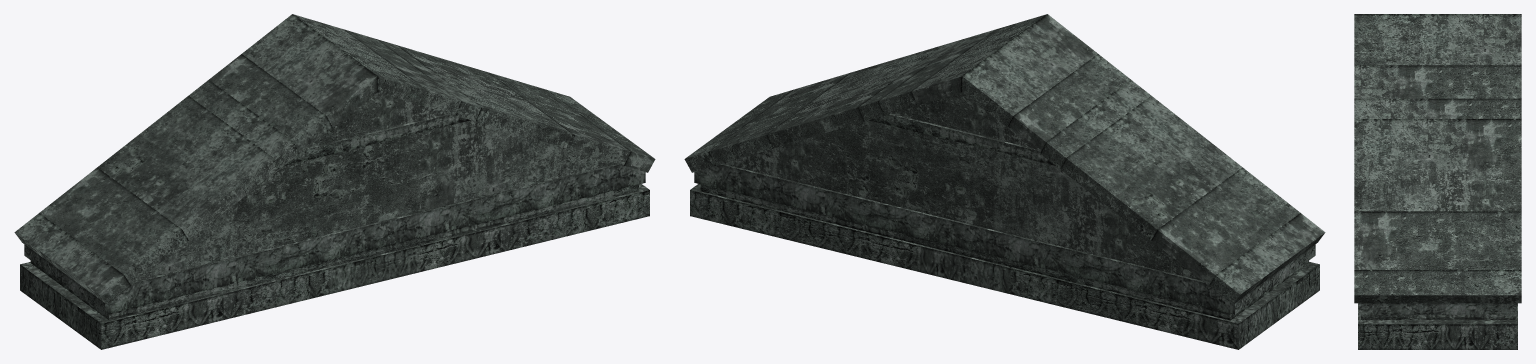
Rendered from mg_9_roof_0.fbx.
3 renders of one model, left to right at view 1: azimuth 30°, elevation 25°; view 2: azimuth 150°, elevation 25°; view 3: azimuth 270°, elevation 25°, orthographic.
Visible parts, largest first — view 1: mg_9_roof_0; view 2: mg_9_roof_0; view 3: mg_9_roof_0.
Part boxes in pixels (box(x1,y1,x2,y2)): mg_9_roof_0: box(14, 14, 655, 349); mg_9_roof_0: box(684, 14, 1325, 349); mg_9_roof_0: box(1354, 14, 1521, 349).
Size of the model in its own units: 778 by 278 by 206.
